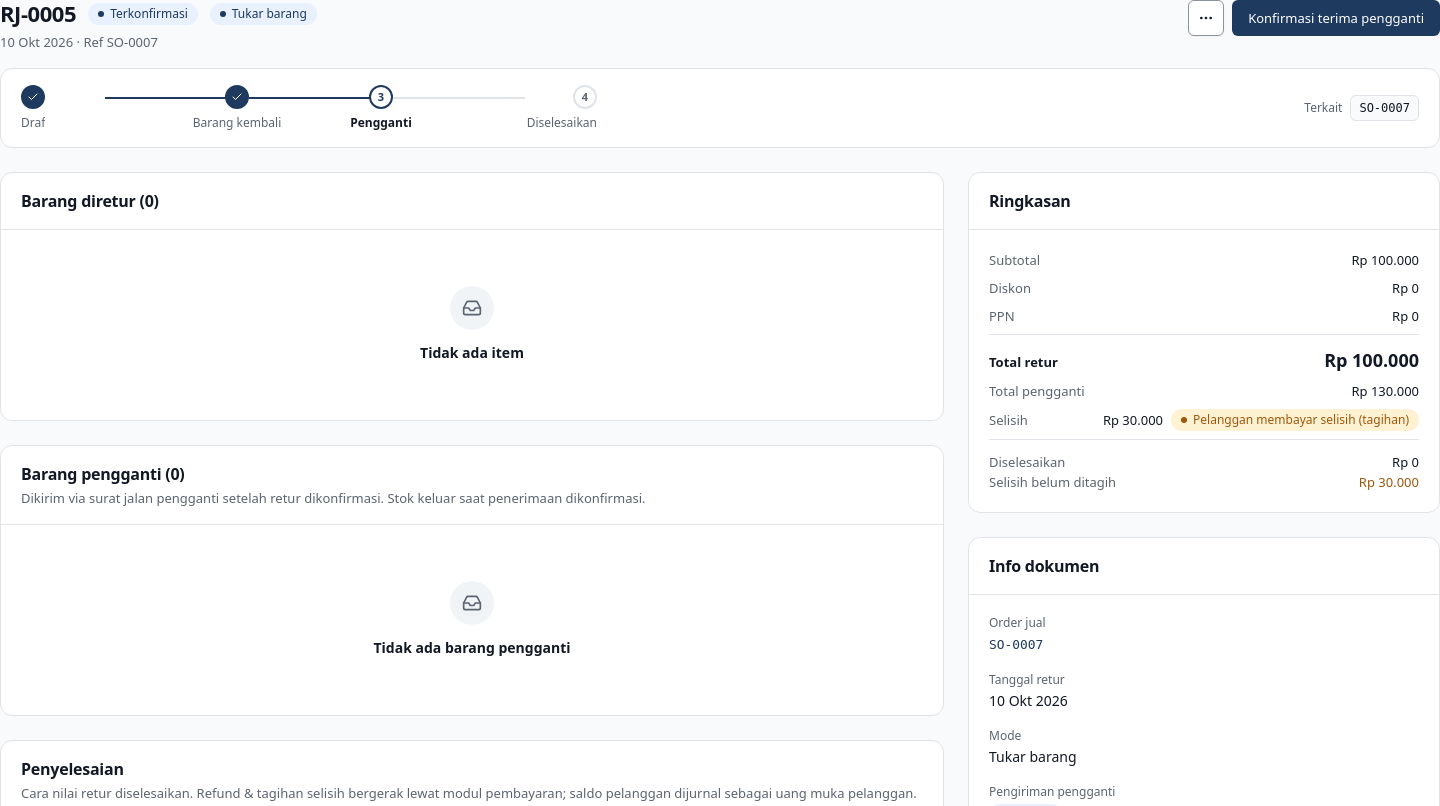
Test: konfirmasi terima pengganti: tagih selisih saat serah (K-04e) › tanpa izin payment.create opsi tagih sekarang tidak tampil
Click the button "Konfirmasi terima pengganti".
click(1336, 18)  # box [1232,0,1439,36]
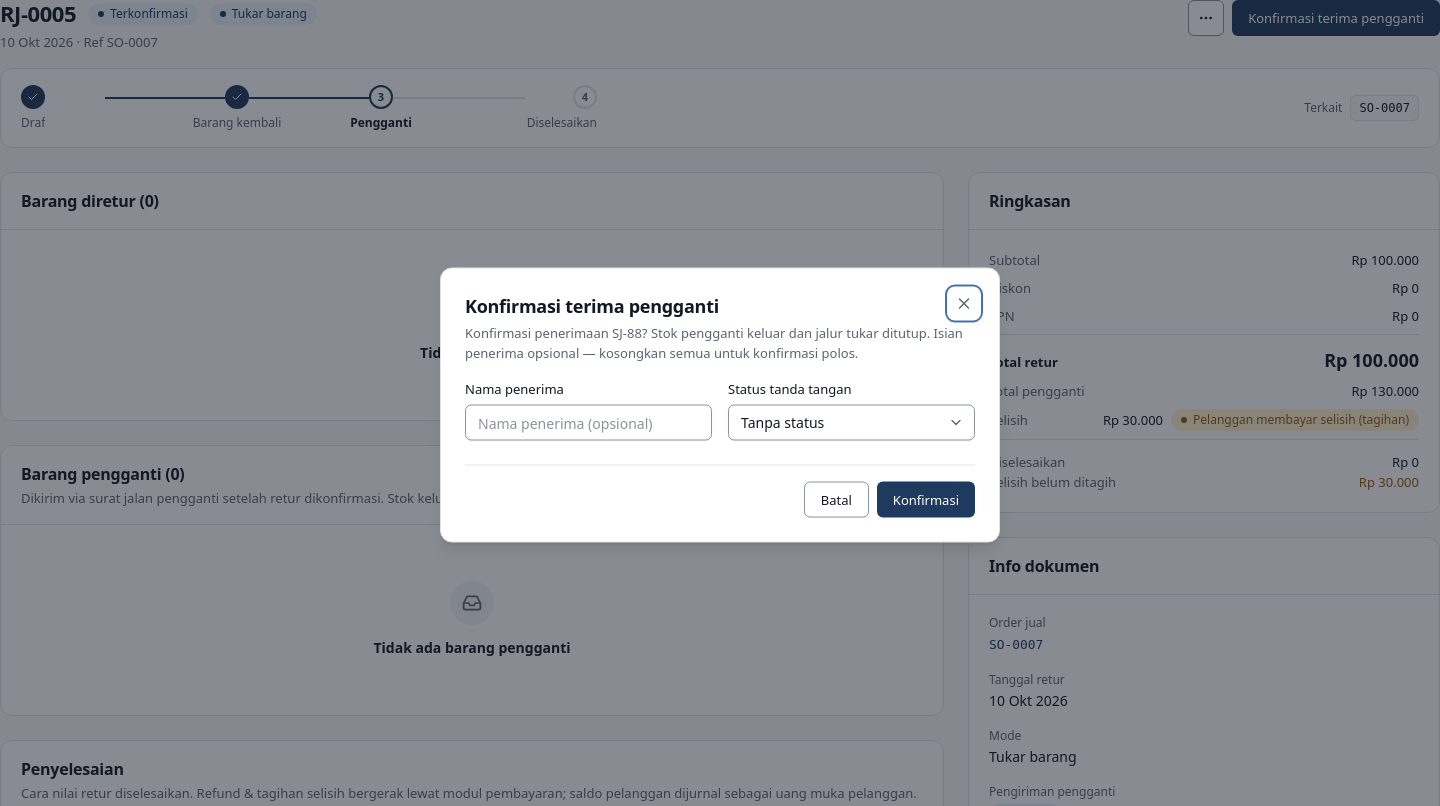
Expected: the text "Konfirmasi penerimaan SJ-88" is shown, [465,324,963,362]
